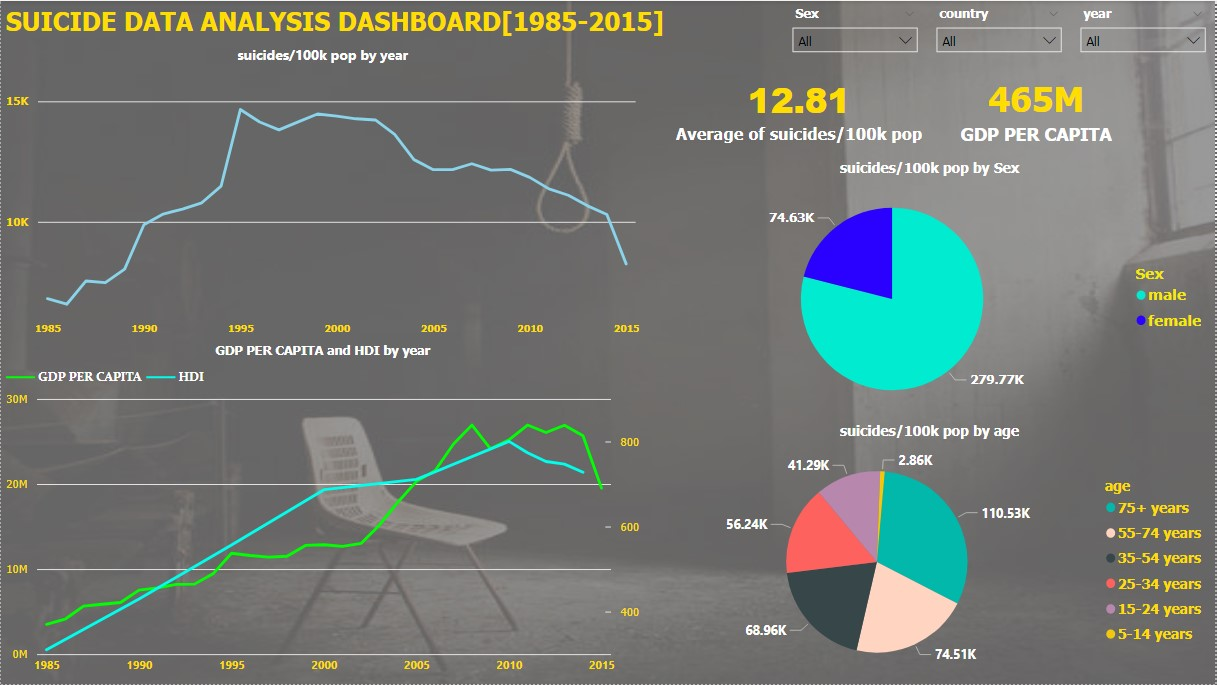

This screenshot's page, from the dashboard's own definition file:
{"tool":"powerbi","page":{"name":"Page 1","canvas":[1280,720],"ordinal":0},"visuals":[{"type":"card","fields":{"Values":["Avg(master.suicides/100k pop)"]},"box":[697.4,61.2,286.9,105.8],"z":0},{"type":"pieChart","fields":{"Category":["master.sex"],"Y":["Sum(master.suicides/100k pop)"]},"box":[678.2,167,601.8,276.7],"z":1000},{"type":"pieChart","fields":{"Category":["master.age"],"Y":["Sum(master.suicides/100k pop)"]},"box":[678.2,443.7,601.8,276.7],"z":2000},{"type":"lineChart","fields":{"Category":["master.year"],"Y2":["Sum(master.HDI for year)"],"Y":["Sum(master.gdp_per_capita ($))"]},"box":[0,360.8,678.2,358.2],"z":3000},{"type":"lineChart","fields":{"Category":["master.year"],"Y":["Sum(master.suicides/100k pop)"]},"box":[0,45.9,678.2,314.9],"z":4000},{"type":"slicer","fields":{"Values":["master.country"]},"box":[976.6,0,151.7,61.2],"z":5000},{"type":"slicer","fields":{"Values":["master.year"]},"box":[1128.3,0,151.7,61.2],"z":6000},{"type":"card","fields":{"Values":["Sum(master.gdp_per_capita ($))"]},"box":[984.2,61.2,212.9,105.8],"z":7000},{"type":"textbox","box":[0,0,721.1,45.5],"z":8000},{"type":"slicer","fields":{"Values":["master.Sex"]},"box":[824.9,0,151.7,61.2],"z":9000}]}

Visuals, with their boxes in screenshot pixels (x1, y1, x2, y2), scaled from the page's 1280x720 canvas onto the 1217x685 screenshot:
card - Avg(master.suicides/100k pop): <region>663, 58, 936, 159</region>
pieChart - master.sex x Sum(master.suicides/100k pop): <region>645, 159, 1216, 422</region>
pieChart - master.age x Sum(master.suicides/100k pop): <region>645, 422, 1216, 684</region>
lineChart - master.year x Sum(master.HDI for year): <region>0, 343, 645, 684</region>
lineChart - master.year x Sum(master.suicides/100k pop): <region>0, 44, 645, 343</region>
slicer - master.country: <region>929, 0, 1073, 58</region>
slicer - master.year: <region>1073, 0, 1216, 58</region>
card - Sum(master.gdp_per_capita ($)): <region>936, 58, 1138, 159</region>
textbox: <region>0, 0, 686, 43</region>
slicer - master.Sex: <region>784, 0, 929, 58</region>
